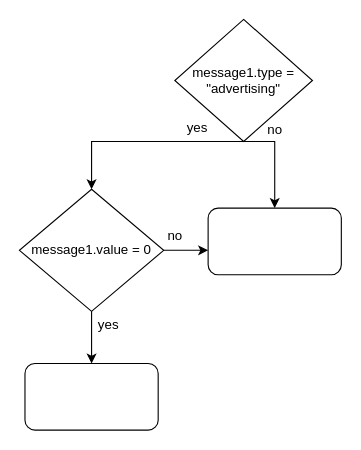
This 361x450 diagram has some shape labels left out. The centre of each missing label's shape, as x and y in pixels:
continue analysis...: (274,241)
tag message1.src as "blackhole": (91,396)
